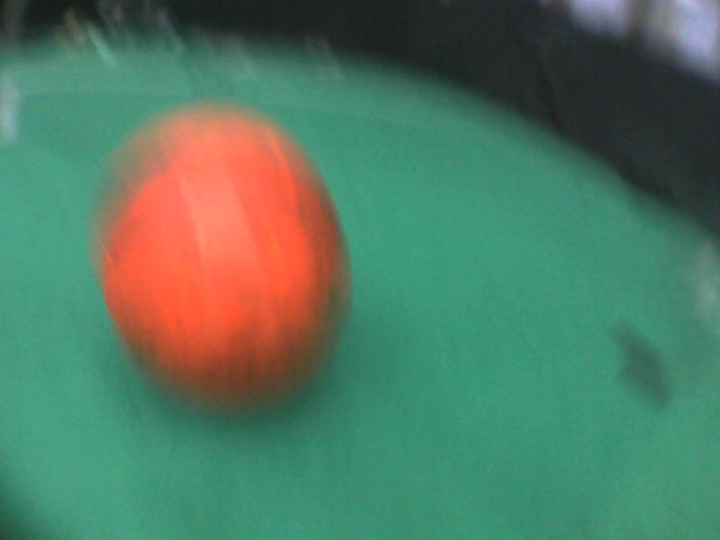bola: (81, 116, 367, 412)
